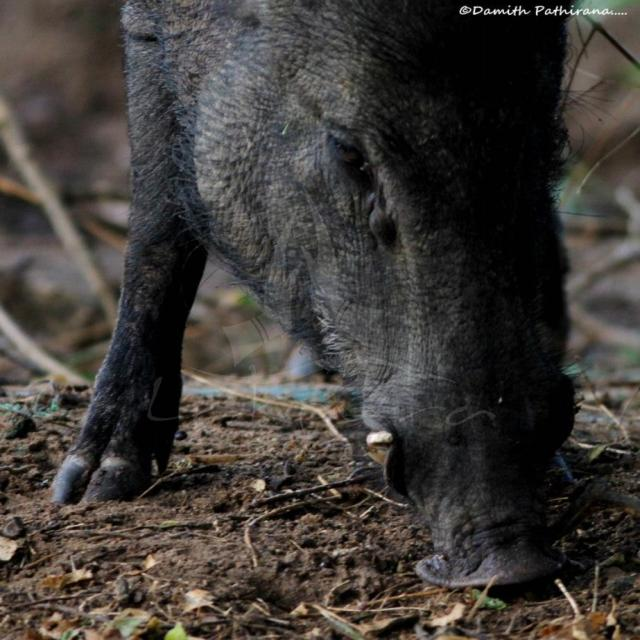Pig: (48, 0, 616, 589)
